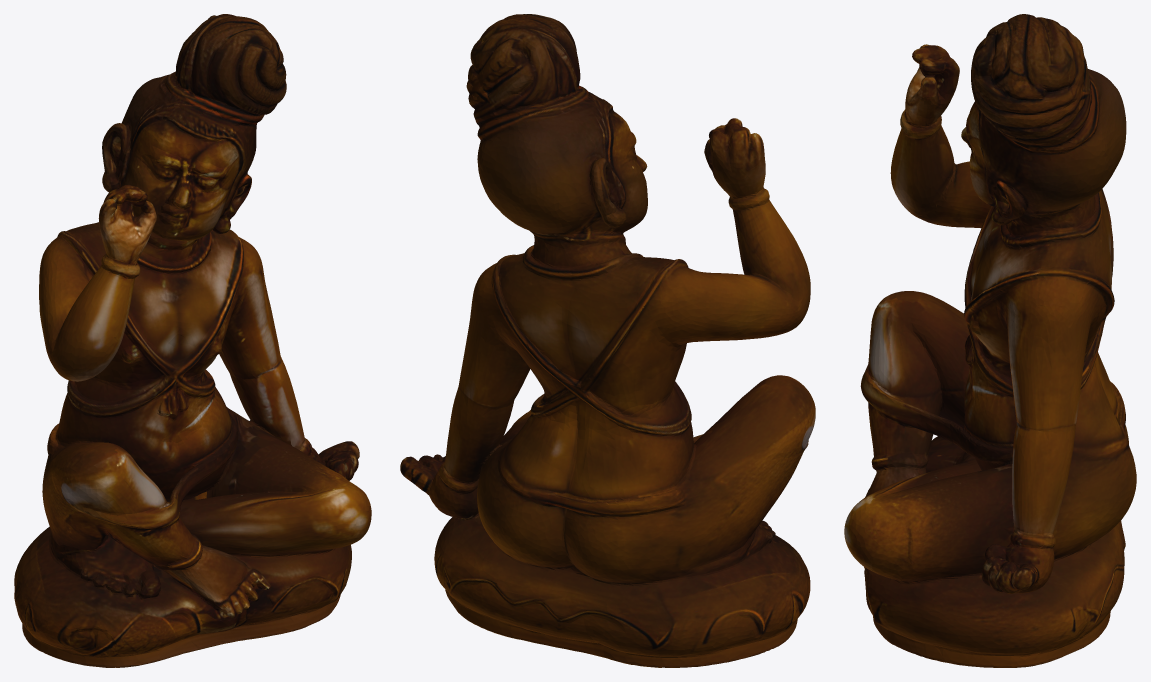
3 views of the same model, side by side, from view 1: azimuth 30°, elevation 25°; view 2: azimuth 150°, elevation 25°; view 3: azimuth 270°, elevation 25° (orthographic). The views are drawn at different scales.
Parts seen in each view (by area): view 1: textured_mesh; view 2: textured_mesh; view 3: textured_mesh.
Boxes of the visible parts, <box> form: textured_mesh: <box>14,14,371,667</box>; textured_mesh: <box>400,14,815,667</box>; textured_mesh: <box>844,14,1136,667</box>.
Size of the model in its own units: 1.32 by 1.99 by 0.8732.
Materials: 1 (1 with a texture image).
